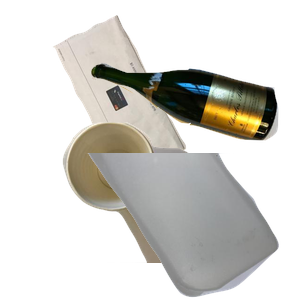glass: (88, 60, 300, 193)
paper: (51, 13, 230, 186)
plastic: (84, 153, 300, 300)
trash: (60, 120, 300, 300)
